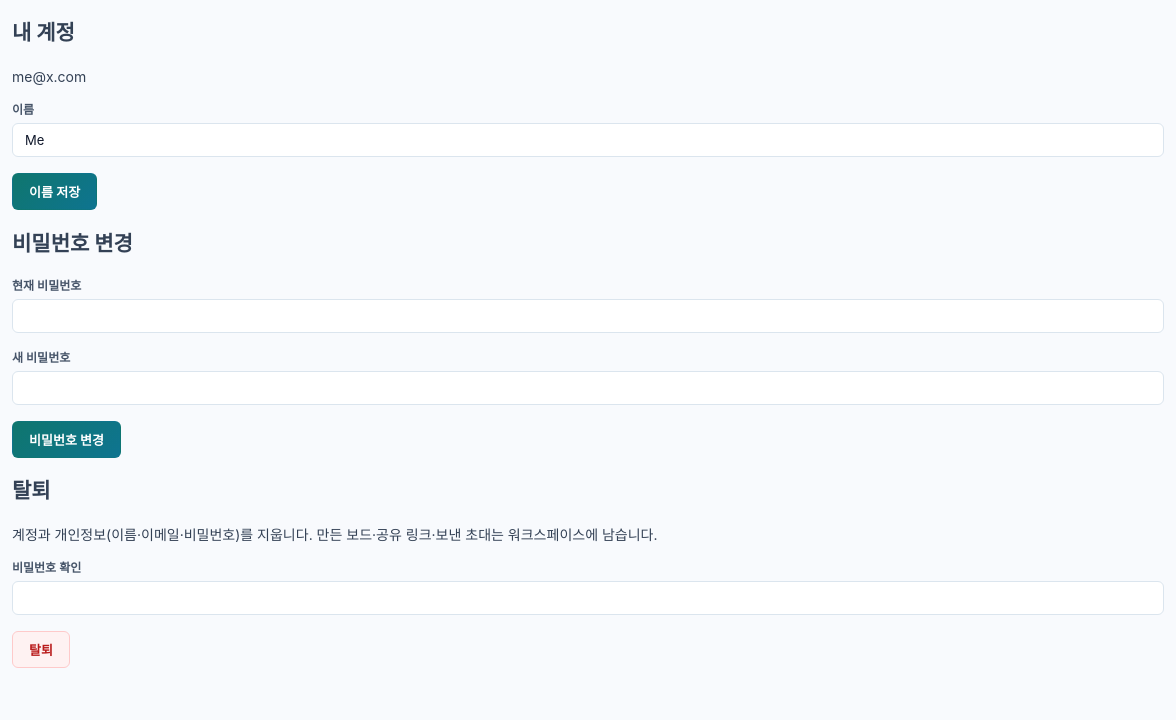
it: AccountPage › says when the current password is wrong
Step 1. Type "wrong-guess" into the password field labelled "현재 비밀번호" → coordinates (588, 316), box [12,299,1164,333]
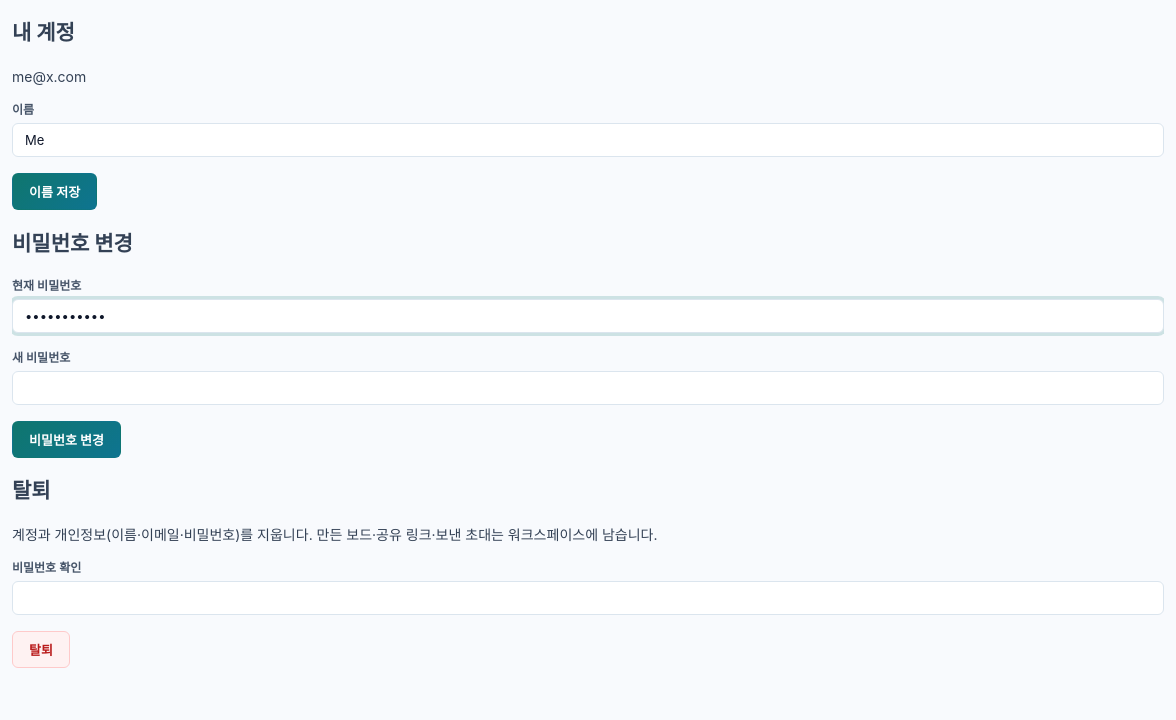
Step 2. Type "new-p4ssword" into the password field labelled "새 비밀번호" → coordinates (588, 388), box [12,371,1164,405]
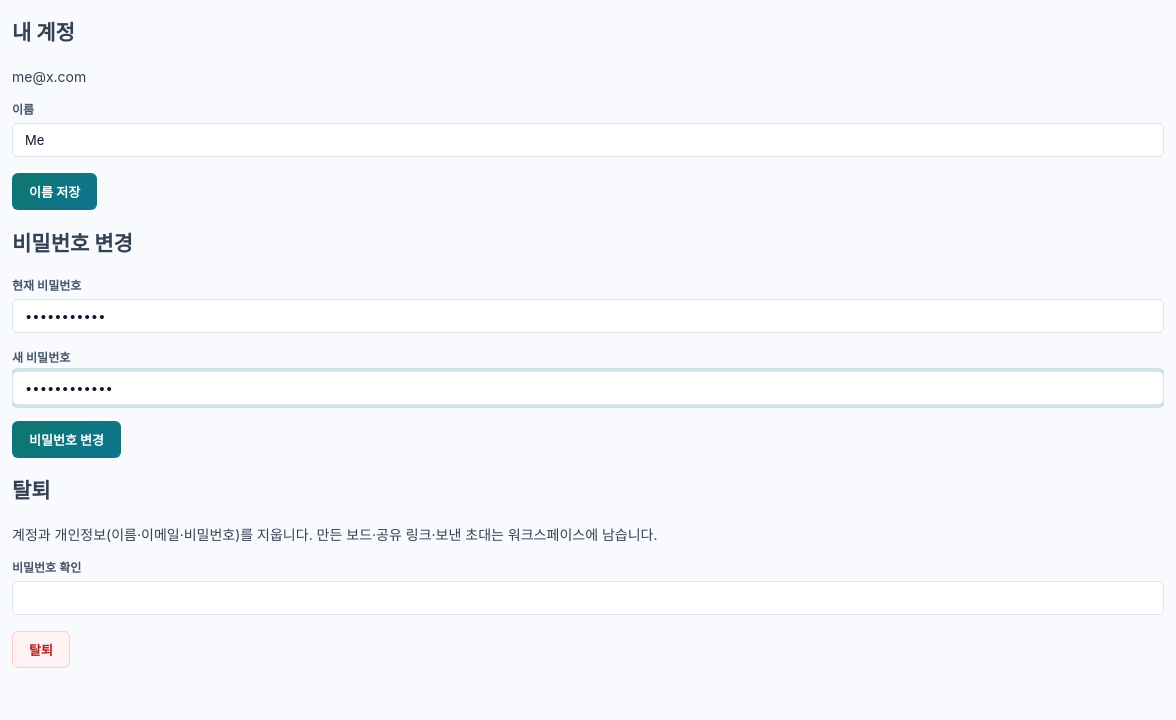
Step 3. Click the button "비밀번호 변경" → coordinates (66, 439), box [12,421,121,458]
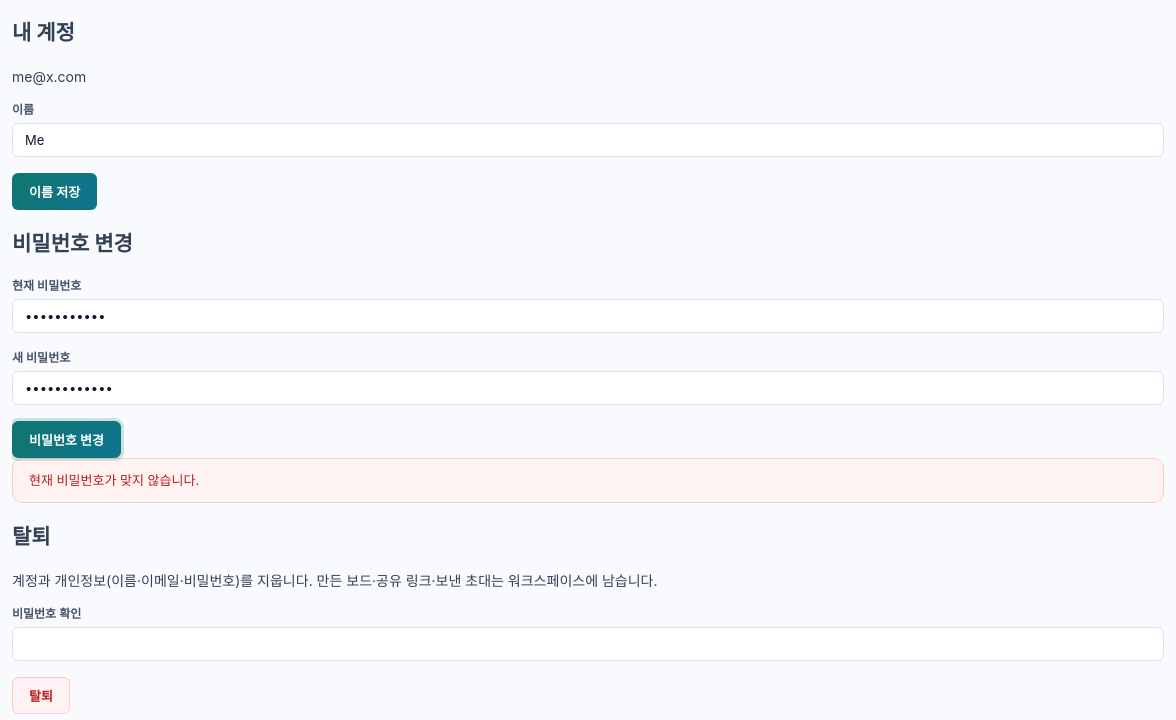
Check: the message reads "현재 비밀번호가 맞지 않습니다.", box [29,472,199,488]
